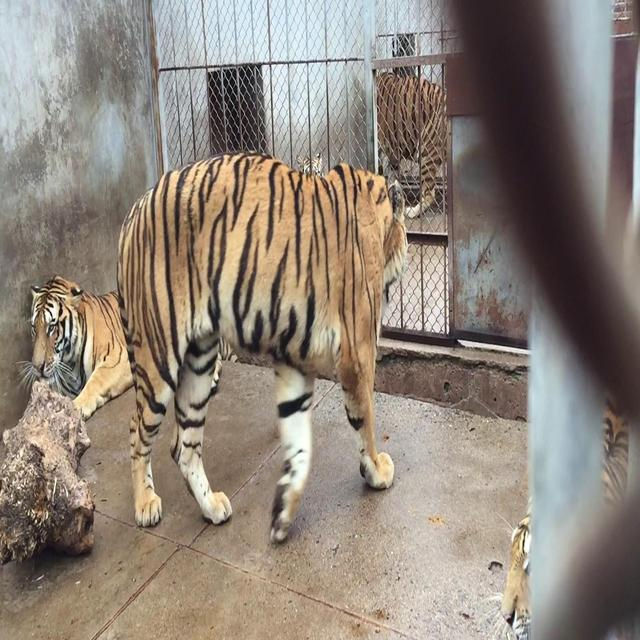tiger: (114, 150, 410, 545), (14, 273, 236, 421), (500, 399, 632, 634), (373, 70, 448, 219)
